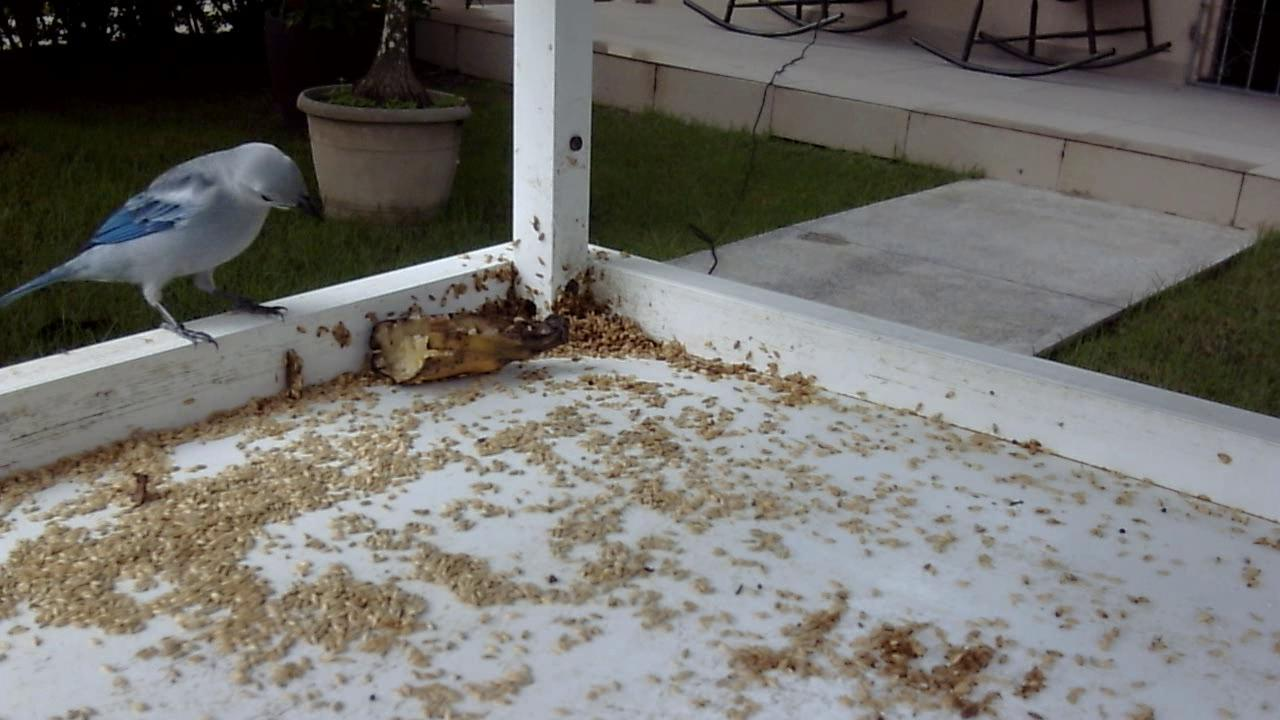sanhaco_da_amazonia: (3, 132, 318, 360)
